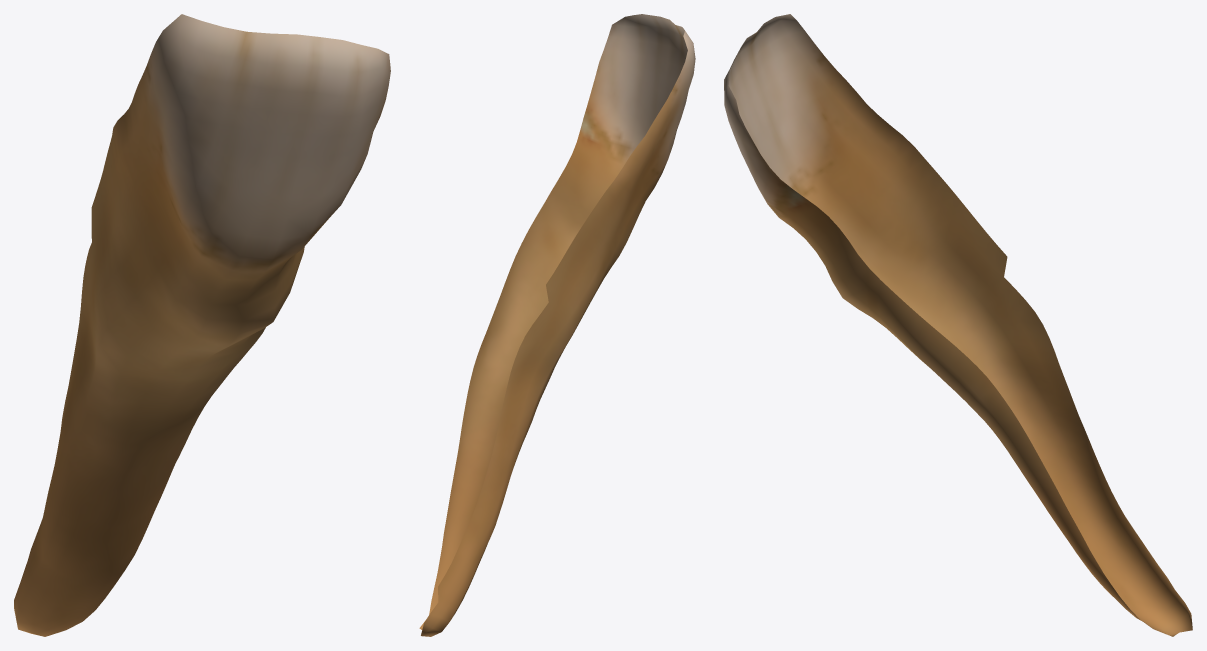
File: tooth-23.glb
3 views of the same model, side by side, from view 1: azimuth 30°, elevation 25°; view 2: azimuth 150°, elevation 25°; view 3: azimuth 270°, elevation 25° (orthographic). The views are drawn at different scales.
Visible parts, largest first — view 1: teeth_1; view 2: teeth_1; view 3: teeth_1.
Part boxes in pixels (<box>): teeth_1: <box>14,14,390,636</box>; teeth_1: <box>419,14,695,636</box>; teeth_1: <box>724,14,1192,636</box>.
Bounding box in the file's own units: 0.0156 × 0.0604 × 0.0448.
1 material, 1 textured.
